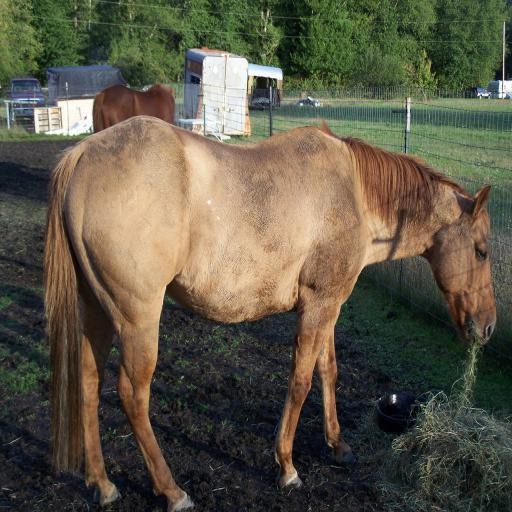horse: (42, 118, 498, 512), (94, 82, 178, 134)
